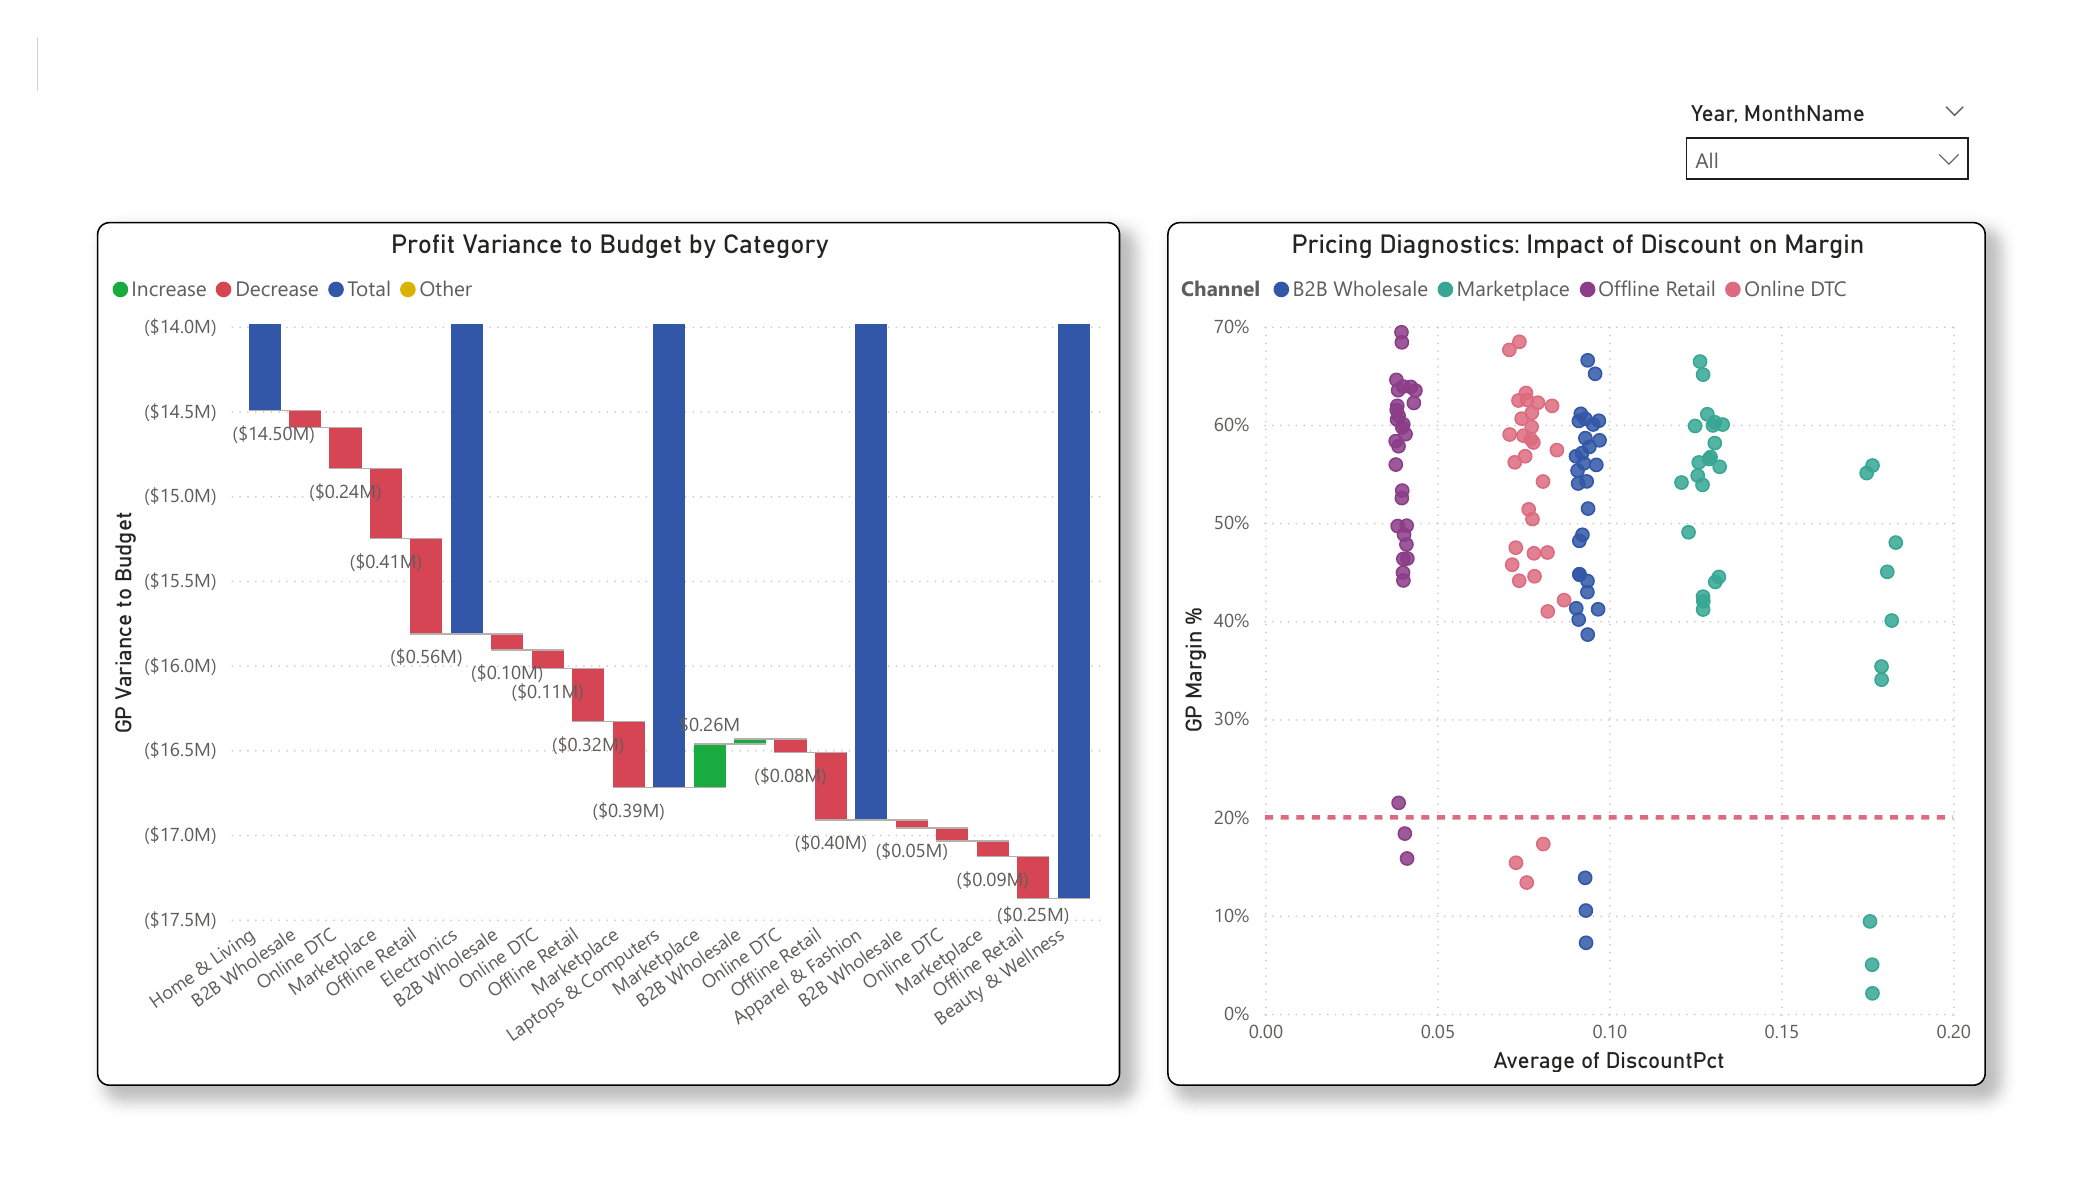

Layout of this report page (visuals, bound fields, positions):
{"tool":"powerbi","page":{"name":"Margin Leakage & Pricing Diagnostics","canvas":[1280,720],"ordinal":1},"visuals":[{"type":"waterfallChart","title":"Profit Variance to Budget by Category","fields":{"Category":["Dim_Product.Category"],"Breakdown":["Dim_Store_Region.Channel"],"Y":["_Measures.GP Variance to Budget"]},"box":[38,118.1,655,552.5],"z":0},{"type":"scatterChart","title":"Pricing Diagnostics: Impact of Discount on Margin","fields":{"Category":["Dim_Product.ProductName"],"X":["Avg(Fact_Sales.DiscountPct)"],"Y":["_Measures.GP Margin %"],"Series":["Dim_Store_Region.Channel"]},"box":[723,118.1,523.8,552.5],"z":1000},{"type":"slicer","fields":{"Values":["Dim_Date.Year","Dim_Date.MonthName"]},"box":[1045,36.2,201.2,61.2],"z":2000}]}

Visuals, with their boxes in screenshot pixels (x1, y1, x2, y2):
"Profit Variance to Budget by Category" waterfallChart: (left=107, top=225, right=1117, bottom=1077)
"Pricing Diagnostics: Impact of Discount on Margin" scatterChart: (left=1164, top=225, right=1971, bottom=1077)
slicer - Dim_Date.Year x Dim_Date.MonthName: (left=1660, top=99, right=1970, bottom=193)
